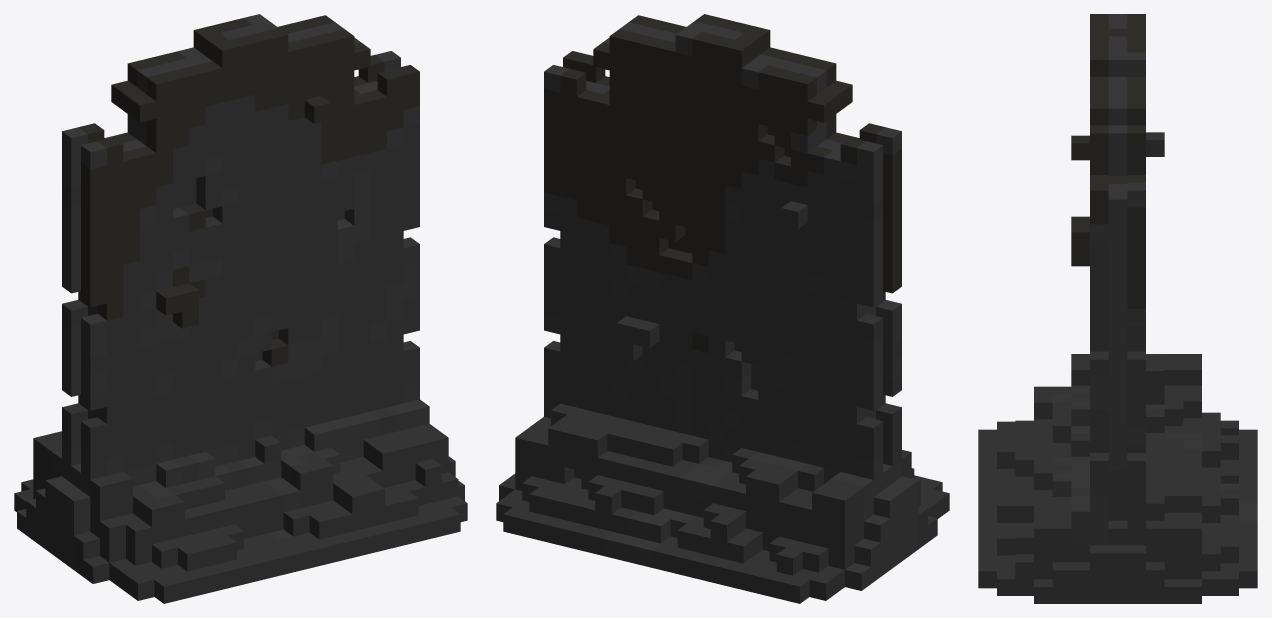
File: DecoratedStone.obj
3 renders of one model, left to right at view 1: azimuth 30°, elevation 25°; view 2: azimuth 150°, elevation 25°; view 3: azimuth 270°, elevation 25°, orthographic. The views are drawn at different scales.
Size of the model in its own units: 2.2 by 2.8 by 1.5.
Materials: 1 (1 with a texture image).
